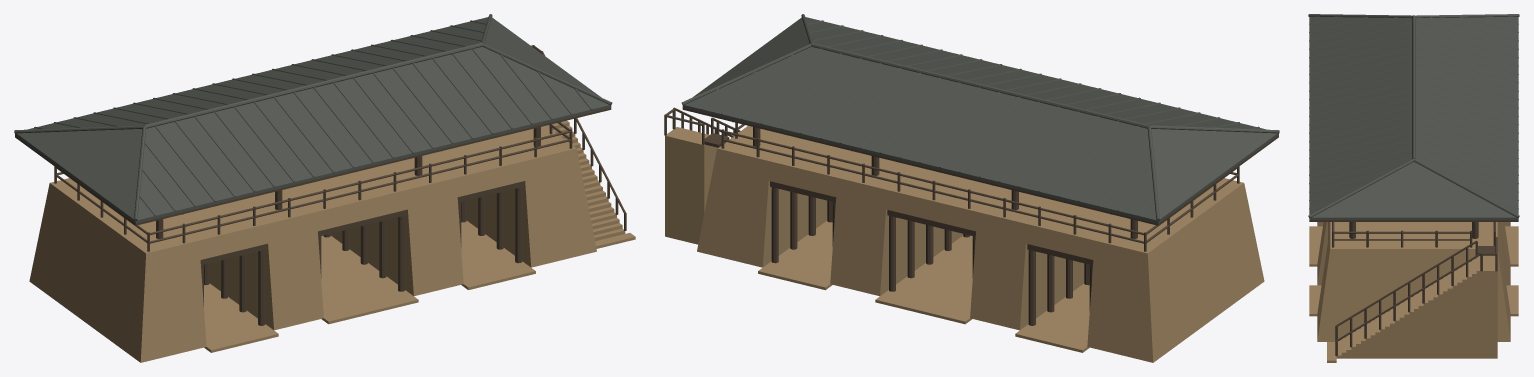
The model's file is mao-C-display-LOD1.glb.
3 views of the same model, side by side, from view 1: azimuth 30°, elevation 25°; view 2: azimuth 150°, elevation 25°; view 3: azimuth 270°, elevation 25° (orthographic). The views are drawn at different scales.
Parts seen in each view (by area): view 1: mao-C-core-earth, mao-C-core-tile, mao-C-core-timber, mao-C-access-earth, mao-C-access-timber; view 2: mao-C-core-earth, mao-C-core-tile, mao-C-core-timber, mao-C-access-earth, mao-C-access-timber; view 3: mao-C-core-tile, mao-C-core-earth, mao-C-access-earth, mao-C-access-timber, mao-C-core-timber.
Boxes of the visible parts, bbox=[...] form: mao-C-core-earth: bbox=[29, 125, 596, 362]; mao-C-core-tile: bbox=[14, 14, 612, 223]; mao-C-core-timber: bbox=[15, 108, 611, 325]; mao-C-access-earth: bbox=[546, 120, 635, 248]; mao-C-access-timber: bbox=[531, 45, 626, 230]; mao-C-core-earth: bbox=[697, 125, 1264, 362]; mao-C-core-tile: bbox=[681, 14, 1279, 223]; mao-C-core-timber: bbox=[682, 108, 1278, 325]; mao-C-access-earth: bbox=[665, 127, 717, 244]; mao-C-access-timber: bbox=[664, 107, 740, 147]; mao-C-core-tile: bbox=[1308, 14, 1519, 220]; mao-C-core-earth: bbox=[1309, 222, 1518, 341]; mao-C-access-earth: bbox=[1327, 255, 1497, 362]; mao-C-access-timber: bbox=[1335, 237, 1497, 356]; mao-C-core-timber: bbox=[1309, 220, 1518, 247].
Bounding box in the file's own units: 31.83 × 11.02 × 13.11.
